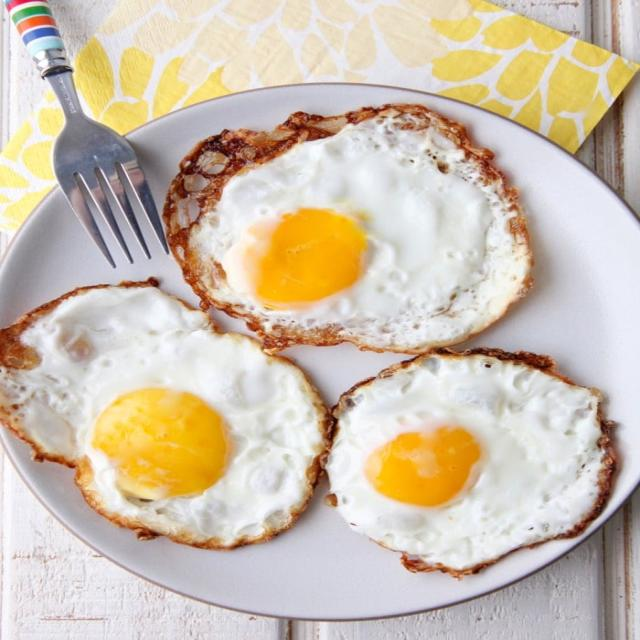Egg: (164, 104, 532, 353), (2, 280, 329, 548), (326, 348, 616, 576)
